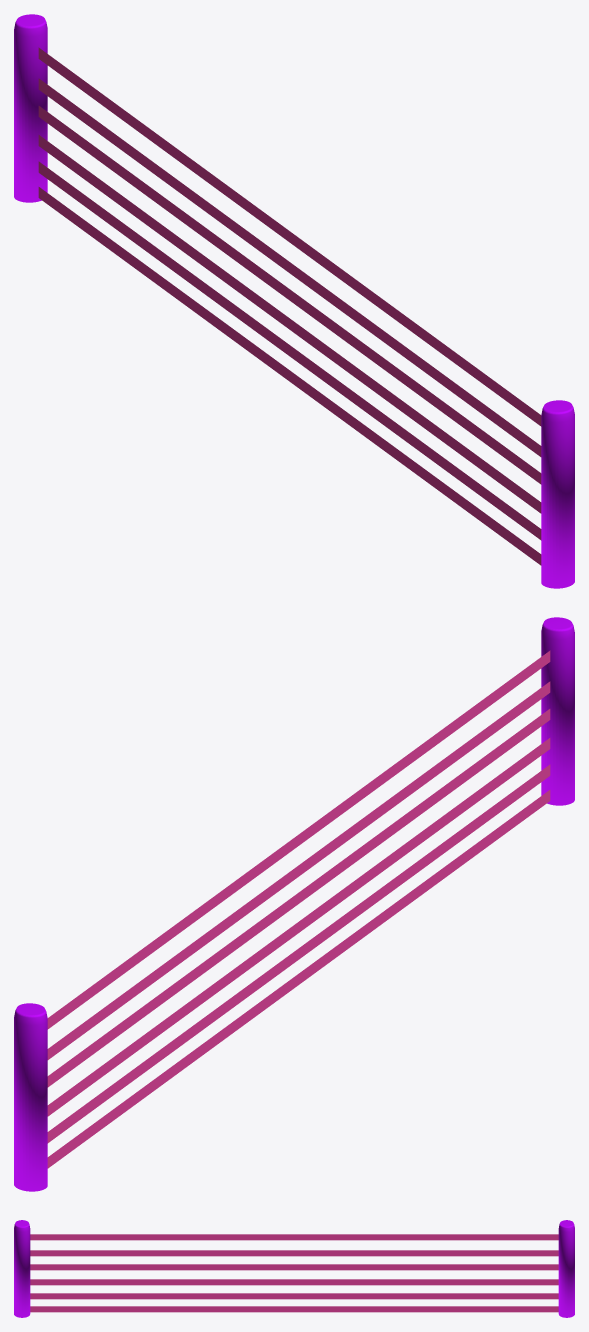
The model's file is pinkborder.glb.
The picture shows the model from 3 angles, top to bottom: view 1: azimuth 30°, elevation 25°; view 2: azimuth 150°, elevation 25°; view 3: azimuth 270°, elevation 25°; orthographic projection. The views are drawn at different scales.
Parts seen in each view (by area): view 1: pinkborder; view 2: pinkborder; view 3: pinkborder.
Boxes of the visible parts, left/top/right/bottom form: pinkborder: left=14, top=14, right=574, bottom=588; pinkborder: left=14, top=617, right=574, bottom=1191; pinkborder: left=14, top=1220, right=574, bottom=1317.
Size of the model in its own units: 0.2007 by 1.12 by 6.29.
